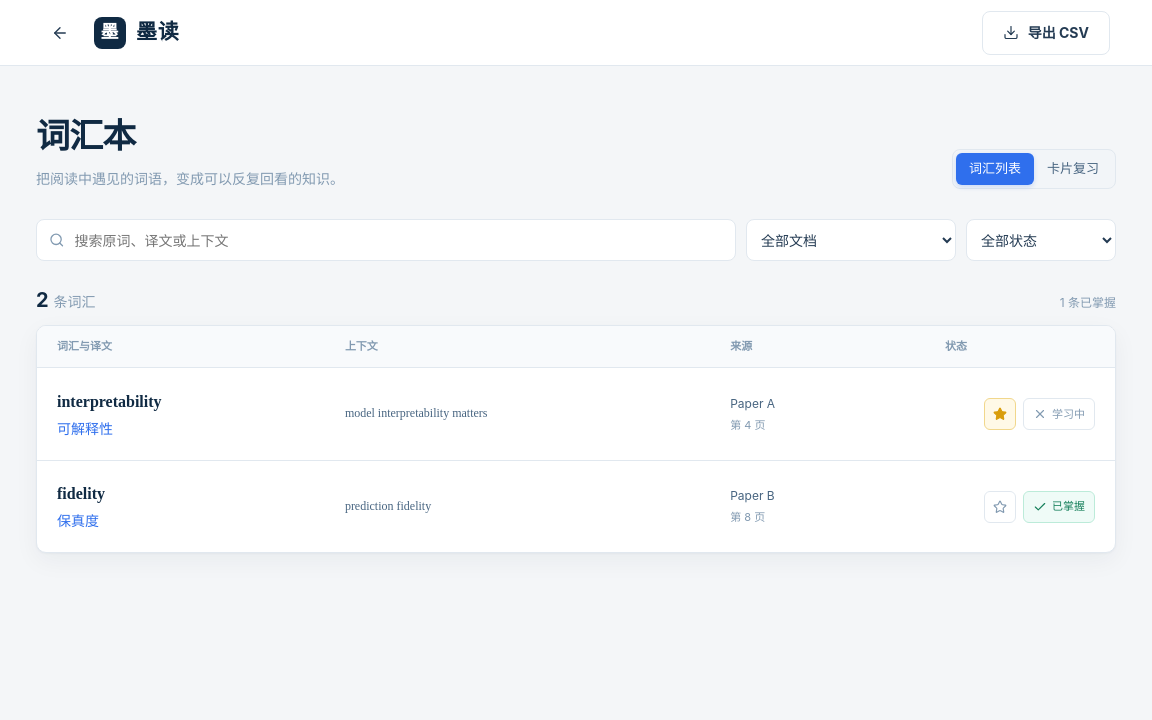
VocabularyScreen › searches vocabulary across original text and translation
Type "保真" into the field named "搜索词汇".
click(398, 240); type("保真")  # box left=72, top=228, right=723, bottom=252
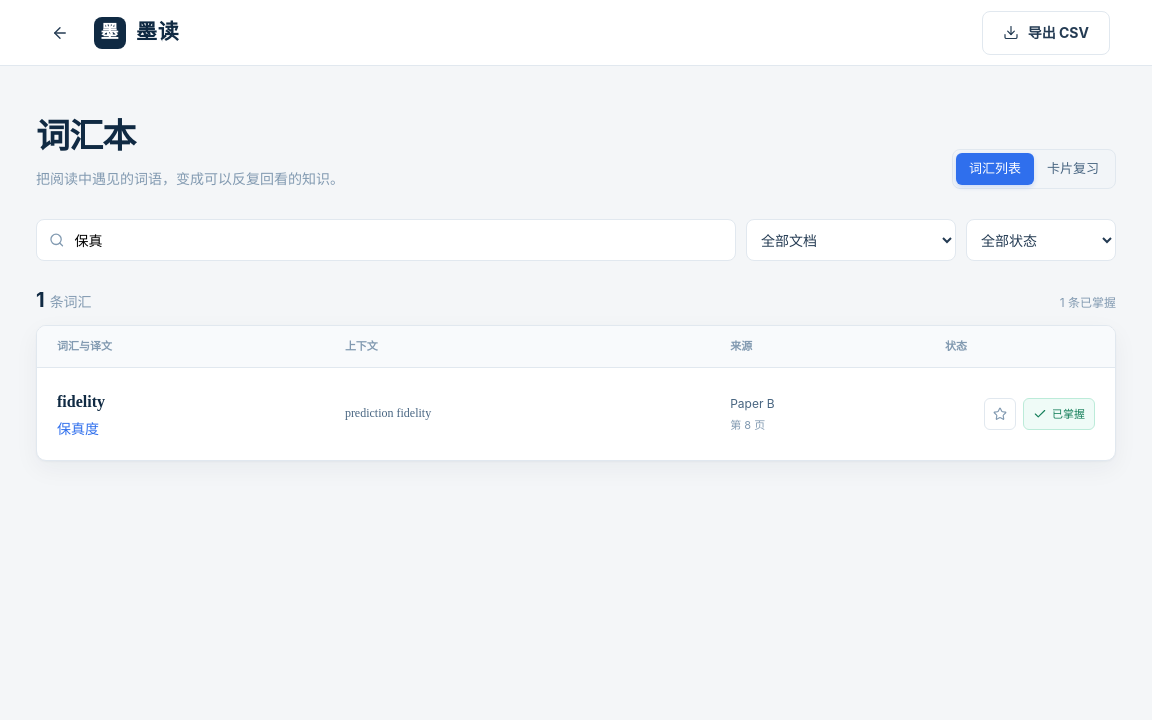
Expected: the text "fidelity" is shown, left=57, top=392, right=105, bottom=410
Expected: the text "interpretability" is gone
